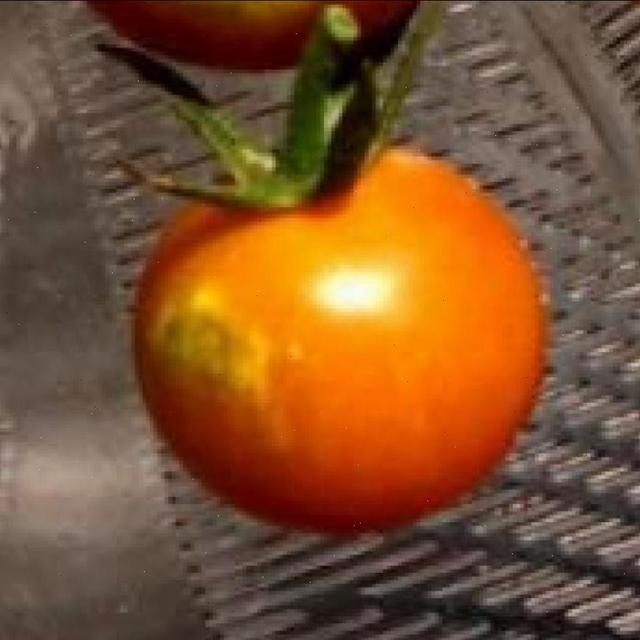Sunscald Fruit: (96, 186, 215, 304)
